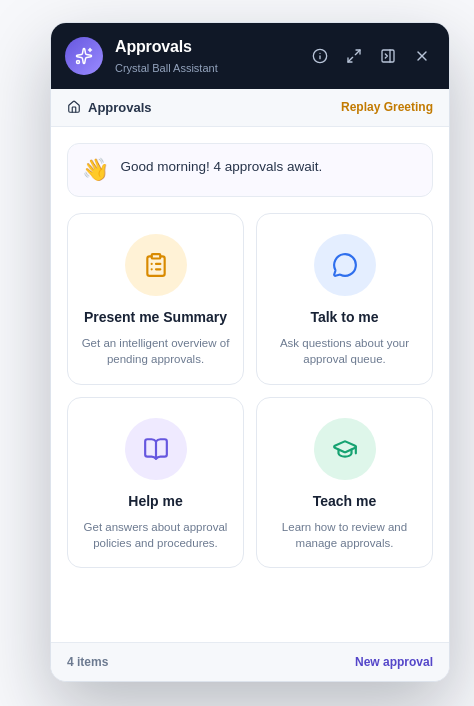
Test: AssistantPanel › Help me › presents "not covered" plainly, without citations
Click the button "Help me Get answers about approval policies and procedures.".
click(156, 482)  # box left=67, top=397, right=244, bottom=568
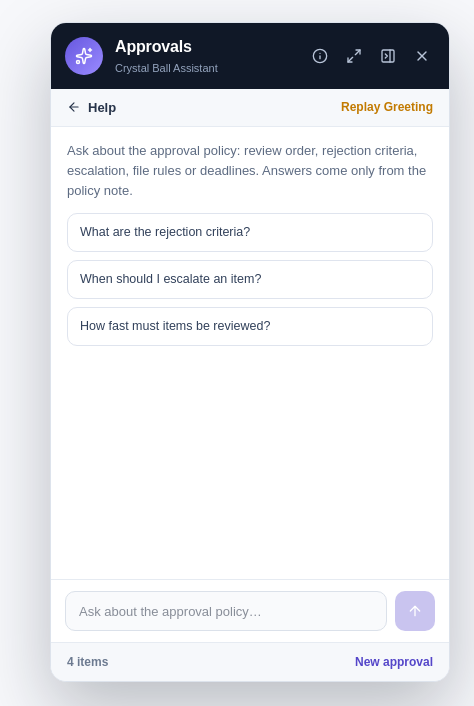
Type "What is the capital of France?" into the field named "your question".
click(226, 611); type("What is the capital of France?")  # box left=65, top=591, right=387, bottom=631
Then press Enter
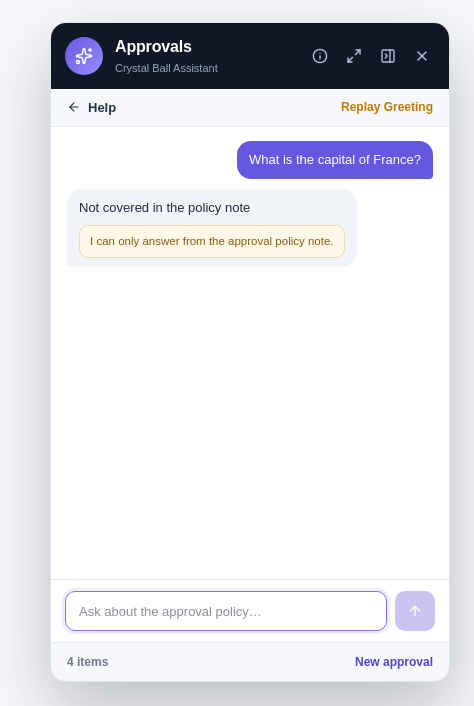
Now the text "Not covered in the policy note" is shown, box left=79, top=200, right=250, bottom=215
